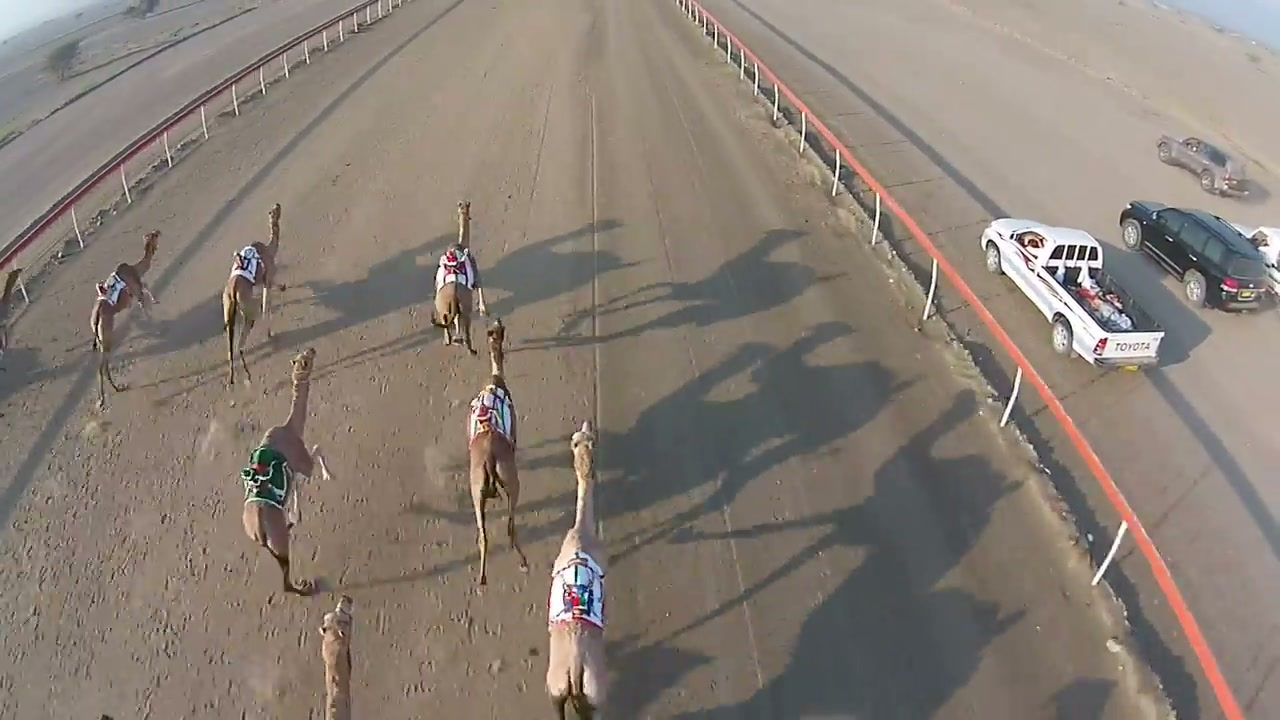animal_footprint: (382, 366, 549, 713), (9, 429, 217, 698), (237, 558, 340, 688)
